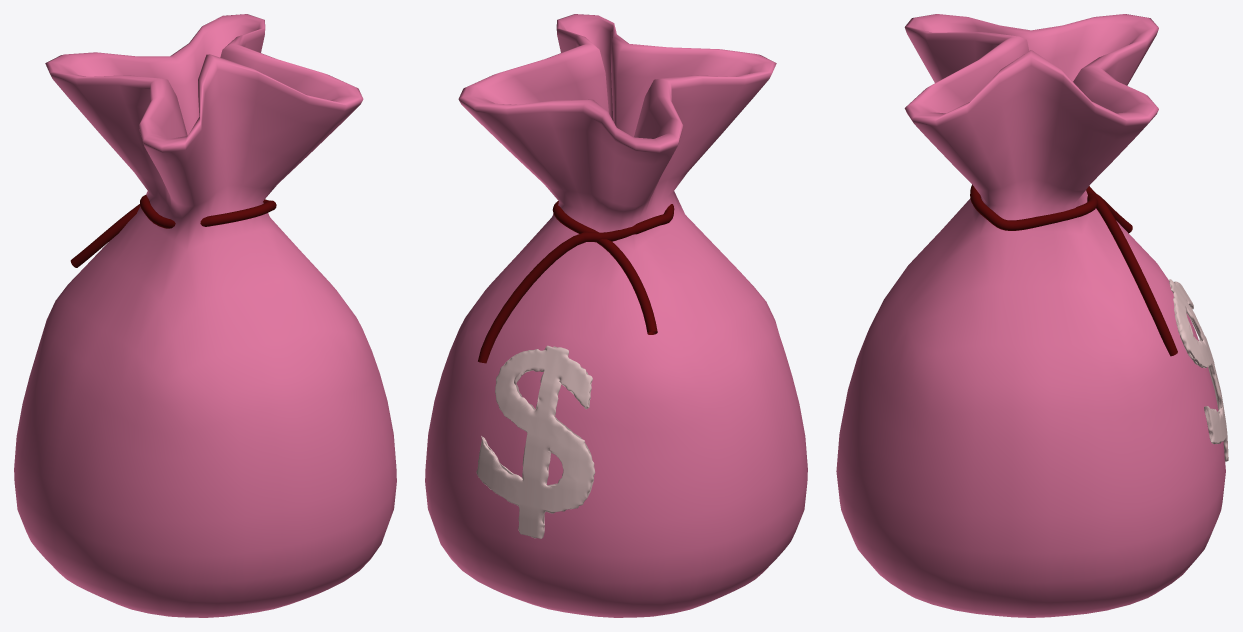
File: money_bag.glb
3 views of the same model, side by side, from view 1: azimuth 30°, elevation 25°; view 2: azimuth 150°, elevation 25°; view 3: azimuth 270°, elevation 25° (orthographic). The views are drawn at different scales.
Parts seen in each view (by area): view 1: Cube, BezierCurve.001; view 2: Cube, Text, BezierCurve.001; view 3: Cube, BezierCurve.001, Text.
Part boxes in pixels (box(x1,y1,x2,y2)): Cube: box(14, 14, 396, 617); BezierCurve.001: box(70, 195, 276, 267); Cube: box(425, 14, 807, 617); Text: box(476, 345, 595, 538); BezierCurve.001: box(478, 201, 674, 363); Cube: box(836, 14, 1225, 617); BezierCurve.001: box(970, 184, 1177, 356); Text: box(1169, 279, 1228, 461).
Bounding box in the file's own units: 162 × 246 × 163.
